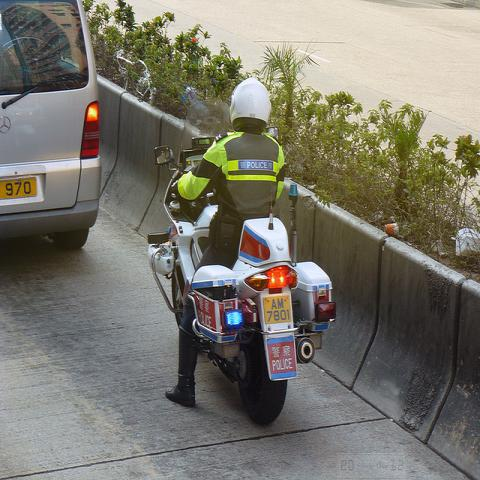car: (1, 0, 101, 250)
motorcycle: (151, 150, 336, 426)
truck: (1, 0, 101, 247)
